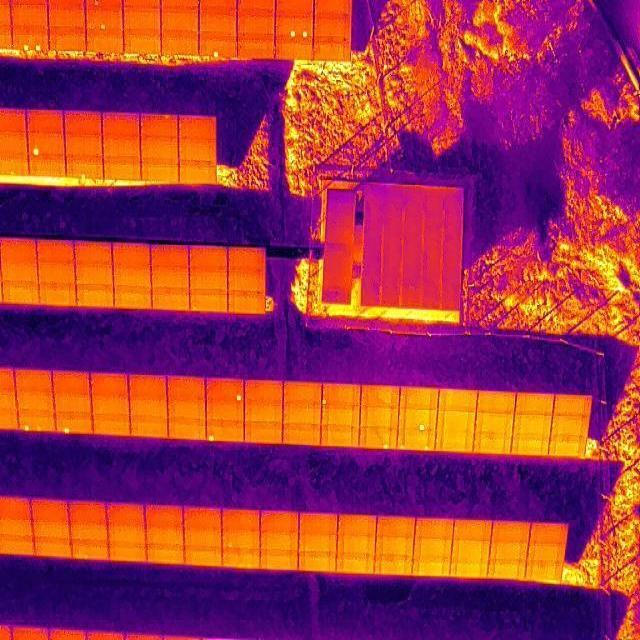Cell: (206, 378, 245, 403), (199, 32, 236, 56), (398, 409, 438, 431), (85, 6, 123, 29), (55, 411, 93, 434), (66, 156, 103, 178), (323, 385, 361, 406), (28, 134, 65, 155), (359, 428, 397, 448), (207, 422, 244, 442)
Cell-Multi: (275, 10, 313, 36), (17, 408, 56, 432), (12, 26, 49, 50), (397, 430, 437, 450)
No-Anomaly: (168, 375, 206, 404), (129, 374, 168, 400), (52, 372, 90, 397), (283, 382, 321, 407), (244, 382, 283, 406), (237, 10, 274, 35), (140, 114, 178, 138), (314, 12, 352, 36), (228, 248, 266, 272), (76, 284, 114, 308), (227, 290, 265, 314), (48, 28, 86, 52), (400, 386, 438, 410), (161, 30, 199, 54), (69, 500, 107, 524), (222, 508, 260, 532), (477, 391, 516, 414), (200, 8, 237, 32), (91, 372, 128, 396), (237, 35, 274, 59), (438, 389, 478, 411), (515, 393, 555, 415), (178, 116, 216, 139), (130, 416, 168, 439), (64, 111, 102, 134), (189, 268, 228, 290), (553, 394, 592, 416), (282, 424, 321, 446), (321, 424, 360, 446), (376, 516, 415, 538), (529, 522, 568, 544), (103, 136, 140, 159), (75, 241, 112, 264), (3, 281, 40, 304), (114, 286, 151, 309), (475, 414, 515, 435), (512, 414, 552, 435), (10, 4, 48, 26), (48, 5, 86, 27), (103, 158, 141, 180), (141, 159, 179, 181), (179, 160, 217, 182), (161, 8, 199, 30), (123, 8, 161, 30), (189, 246, 227, 268), (38, 262, 76, 284), (151, 266, 189, 288), (152, 288, 190, 310), (190, 289, 228, 311), (362, 385, 400, 407), (123, 30, 161, 52), (313, 38, 351, 60), (106, 502, 144, 524), (413, 556, 451, 578), (102, 113, 140, 135), (112, 244, 151, 265), (321, 405, 360, 426), (435, 430, 474, 451), (338, 514, 377, 535), (375, 555, 414, 576), (0, 239, 37, 261), (275, 38, 312, 60), (27, 110, 64, 132), (551, 415, 591, 435), (65, 134, 103, 155), (179, 139, 217, 160), (37, 240, 75, 261), (151, 245, 189, 266), (54, 392, 92, 413), (92, 414, 130, 435), (245, 422, 283, 443), (31, 500, 69, 521), (145, 505, 183, 526), (71, 539, 109, 560), (228, 272, 267, 292), (283, 405, 322, 425), (360, 408, 399, 428), (511, 435, 550, 455), (260, 512, 299, 532), (299, 512, 338, 532), (415, 518, 454, 538), (453, 520, 492, 540), (492, 522, 531, 542), (260, 531, 299, 551), (260, 551, 299, 571), (336, 554, 375, 574), (487, 559, 526, 579), (113, 265, 150, 286), (39, 284, 76, 305), (86, 30, 123, 51), (549, 435, 586, 456), (140, 138, 178, 158), (76, 264, 114, 284), (17, 391, 55, 411), (168, 402, 206, 422), (436, 411, 476, 430), (183, 508, 221, 528), (146, 526, 184, 546), (299, 532, 337, 552), (184, 546, 222, 566), (222, 549, 260, 569), (299, 551, 337, 571), (451, 558, 489, 578), (474, 433, 513, 452), (337, 535, 376, 554), (29, 155, 66, 175), (15, 371, 52, 391), (130, 400, 167, 420), (168, 420, 205, 440), (109, 542, 146, 562), (92, 396, 130, 415), (245, 403, 283, 422), (206, 403, 244, 422), (69, 521, 107, 540), (222, 530, 260, 549), (452, 540, 490, 559), (1, 261, 37, 281), (413, 538, 453, 556), (33, 520, 70, 539), (107, 524, 146, 542), (376, 538, 415, 556), (490, 542, 529, 560), (184, 528, 222, 546), (527, 542, 565, 560), (147, 544, 185, 562), (34, 538, 70, 556), (526, 561, 562, 579), (272, 219, 274, 225)
